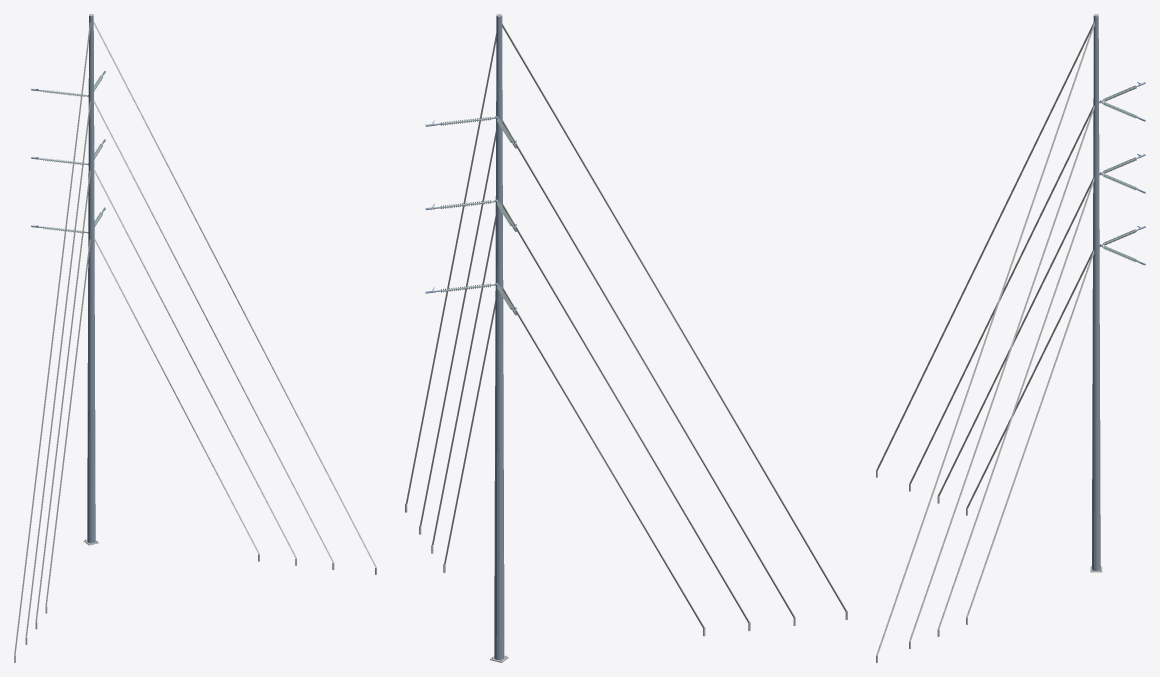
The picture shows the model from 3 angles, left to right: view 1: azimuth 30°, elevation 25°; view 2: azimuth 150°, elevation 25°; view 3: azimuth 270°, elevation 25°; orthographic projection. The views are drawn at different scales.
Visible parts, largest first — view 1: Guy_Guy, SteelPole_Cylinder01; view 2: Guy_Guy, SteelPole_Cylinder01; view 3: Guy_Guy, SteelPole_Cylinder01.
Part boxes in pixels (x1=…): Guy_Guy: x1=14, y1=21, x2=376, y2=655; SteelPole_Cylinder01: x1=87, y1=16, x2=95, y2=543; Guy_Guy: x1=406, y1=23, x2=846, y2=627; SteelPole_Cylinder01: x1=494, y1=16, x2=504, y2=660; Guy_Guy: x1=876, y1=22, x2=1094, y2=655; SteelPole_Cylinder01: x1=1092, y1=16, x2=1100, y2=570.
Size of the model in its own units: 55.52 by 77.2 by 34.01.
